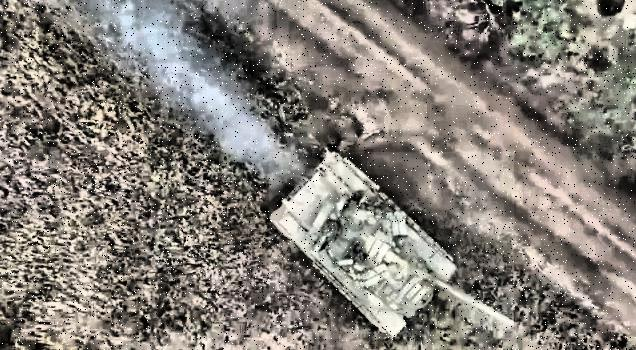military-vehicle: (269, 152, 514, 339)
